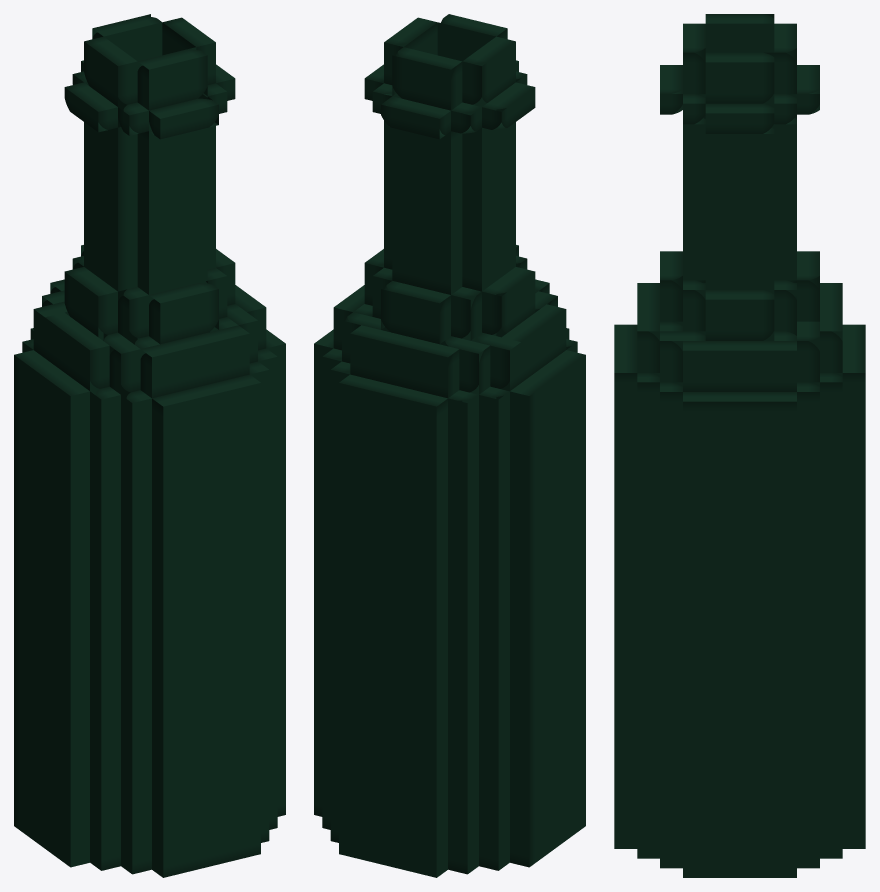
File: butelka_po_piwie.dae
The picture shows the model from 3 angles, left to right: view 1: azimuth 30°, elevation 25°; view 2: azimuth 150°, elevation 25°; view 3: azimuth 270°, elevation 25°; orthographic projection.
Visible parts, largest first — view 1: Content; view 2: Content; view 3: Content.
Part boxes in pixels (x1,y1,x2,y2): Content: [14, 14, 285, 877]; Content: [314, 14, 585, 877]; Content: [614, 14, 865, 877].
Bounding box in the file's own units: 11 × 38 × 11.
Materials: 1 (1 with a texture image).
